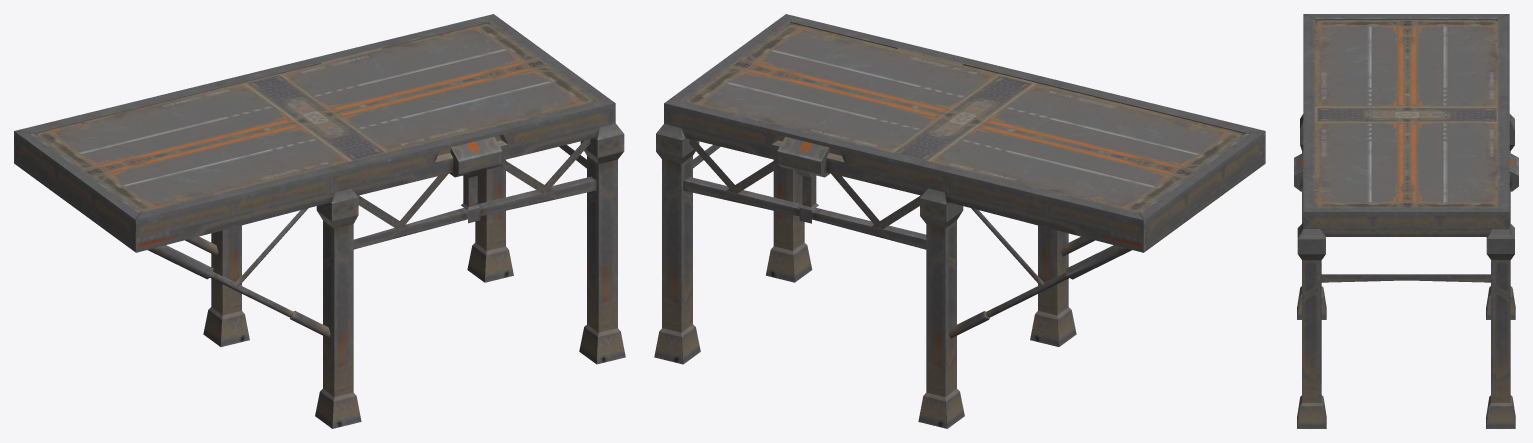
The model's file is Demo_pingtai.FBX.
3 views of the same model, side by side, from view 1: azimuth 30°, elevation 25°; view 2: azimuth 150°, elevation 25°; view 3: azimuth 270°, elevation 25° (orthographic). The views are drawn at different scales.
Parts seen in each view (by area): view 1: Demo_pingtai; view 2: Demo_pingtai; view 3: Demo_pingtai.
Part boxes in pixels (x1,y1,x2,y2): Demo_pingtai: [14, 14, 625, 428]; Demo_pingtai: [654, 14, 1265, 428]; Demo_pingtai: [1294, 14, 1518, 428].
Size of the model in its own units: 15.3 by 7.61 by 7.25.
